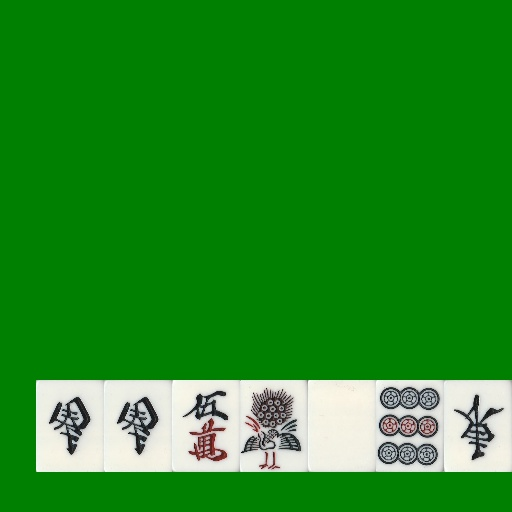1s: (240, 380, 308, 472)
5m: (172, 380, 240, 472)
9p: (376, 380, 444, 472)
east: (444, 380, 512, 472)
south: (36, 380, 104, 472), (104, 380, 172, 472)
white: (308, 380, 376, 472)
